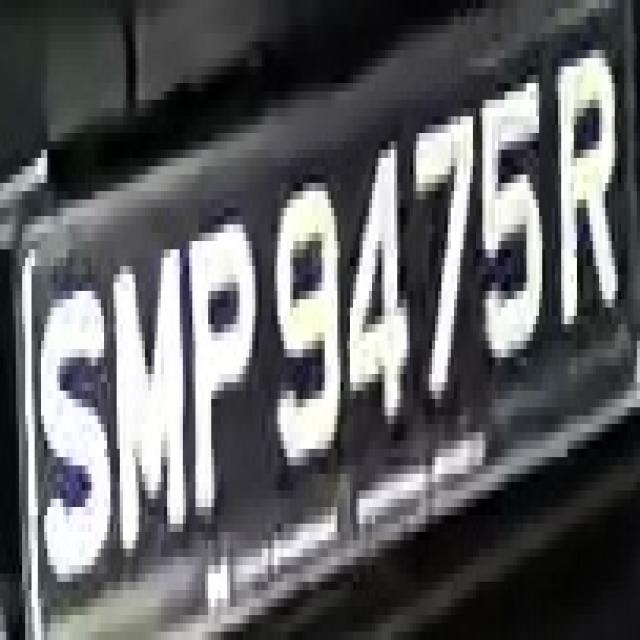4: (334, 150, 416, 457)
5: (473, 50, 542, 374)
7: (413, 108, 476, 416)
9: (265, 174, 350, 473)
M: (107, 216, 189, 574)
P: (176, 191, 258, 507)
R: (542, 33, 628, 349)
S: (38, 249, 113, 590)
